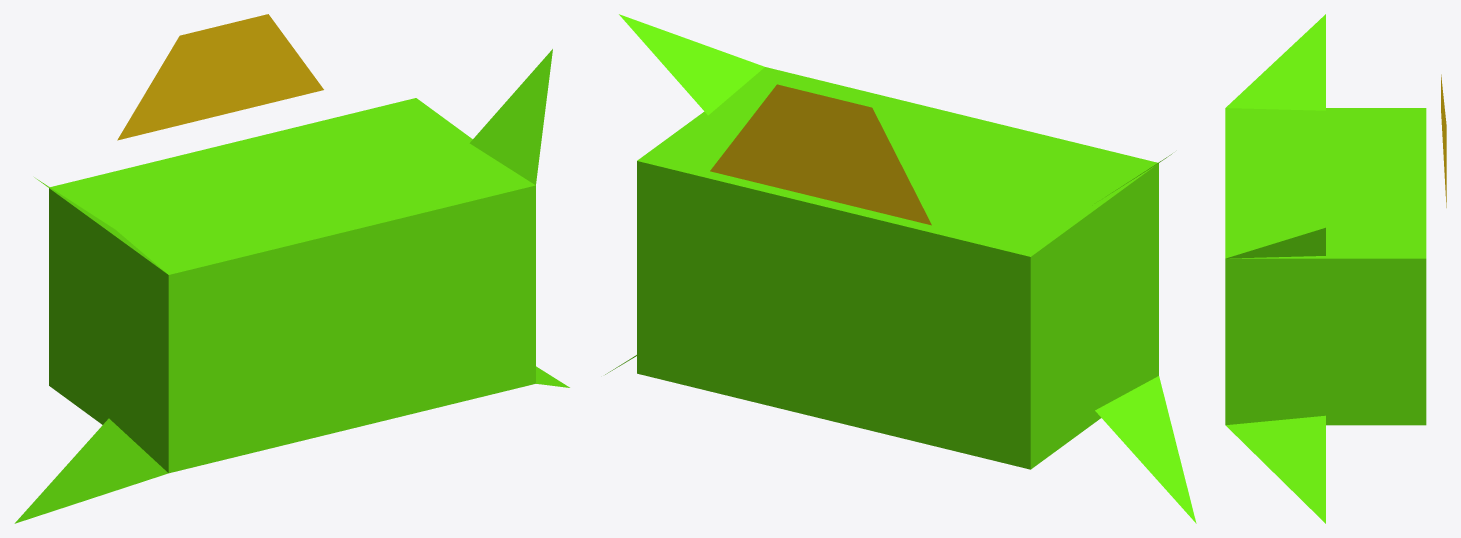
The model's file is beastie.obj.
The picture shows the model from 3 angles, left to right: view 1: azimuth 30°, elevation 25°; view 2: azimuth 150°, elevation 25°; view 3: azimuth 270°, elevation 25°; orthographic projection. The views are drawn at different scales.
Visible parts, largest first — view 1: beastie; view 2: beastie; view 3: beastie.
Boxes of the visible parts, bbox=[...] form: beastie: bbox=[14, 14, 569, 523]; beastie: bbox=[605, 14, 1196, 523]; beastie: bbox=[1225, 14, 1446, 523].
Size of the model in its own units: 1.88 by 1.23 by 0.77.
